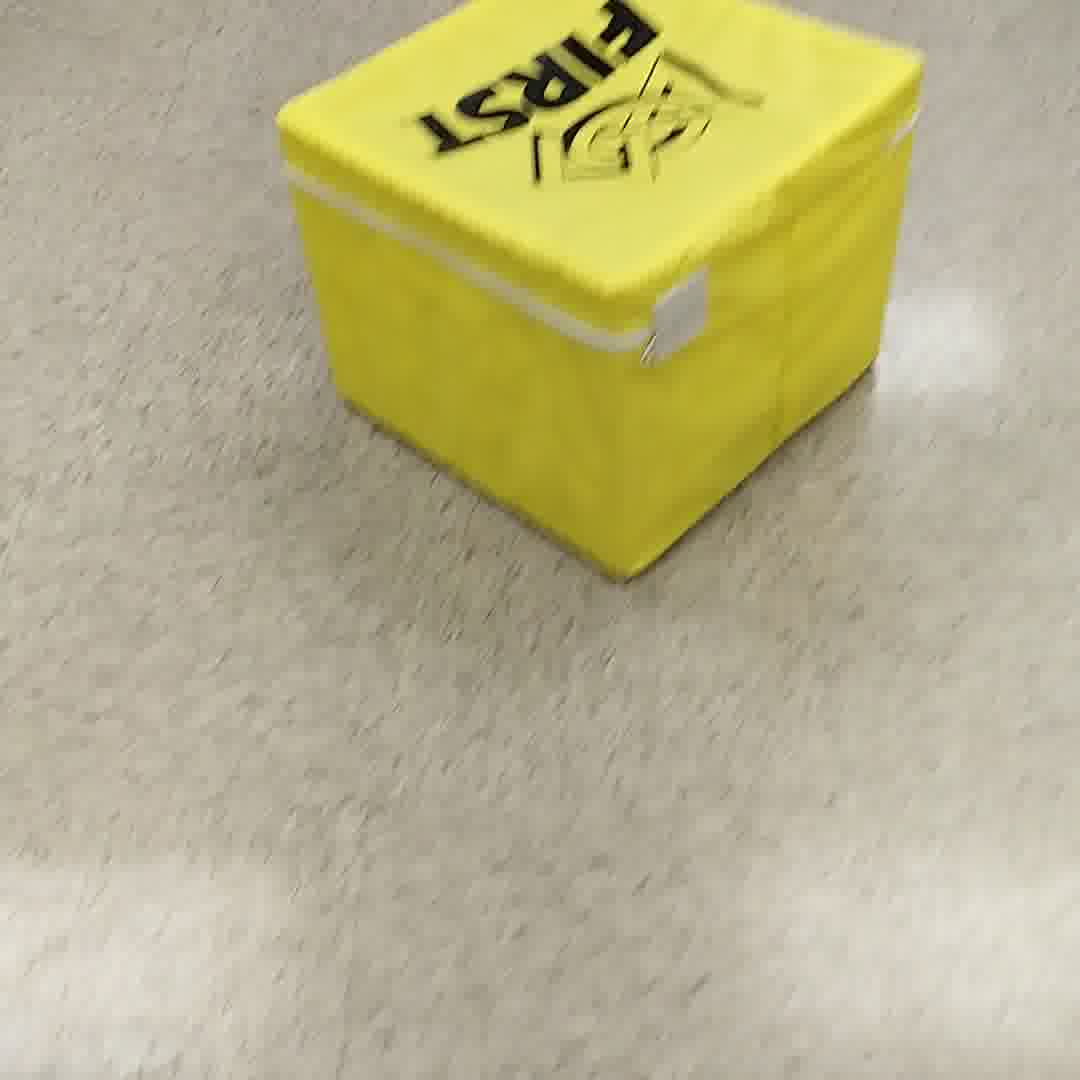box: (269, 8, 941, 575)
